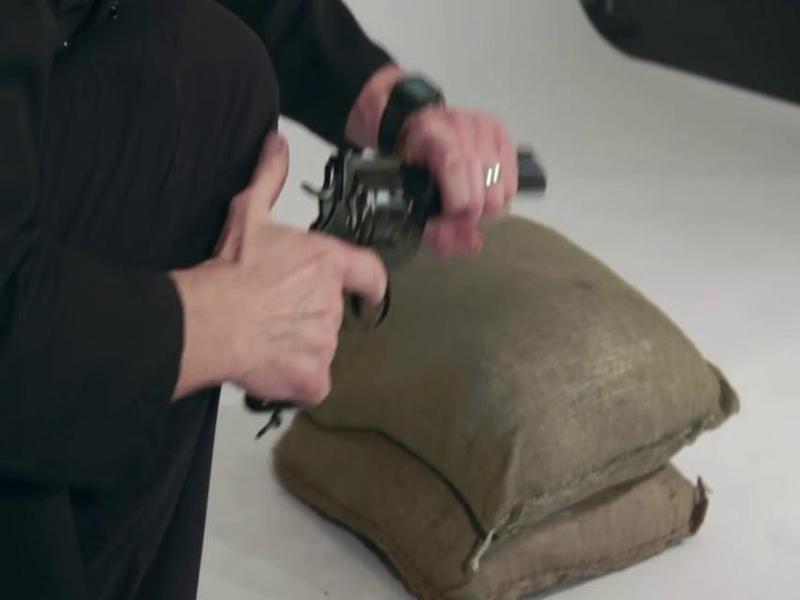Revolver: (218, 137, 581, 415)
